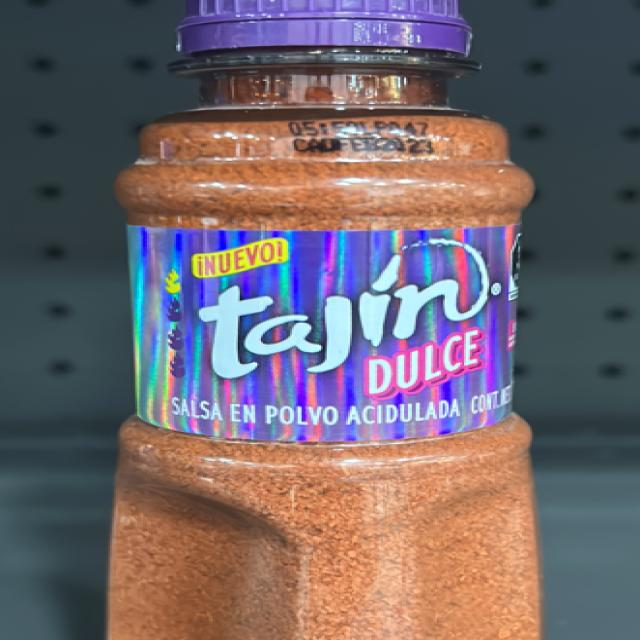tajinDulce: (116, 4, 539, 640)
